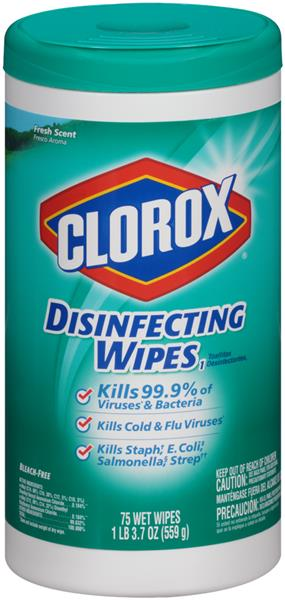Wipes: (3, 1, 284, 597)
